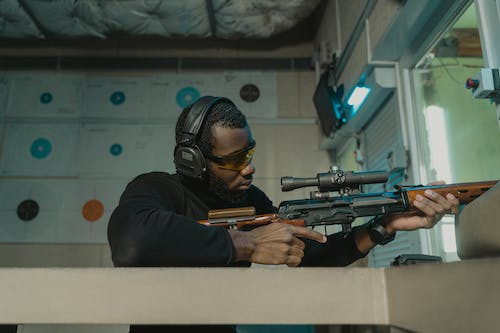gun: (193, 164, 500, 244)
